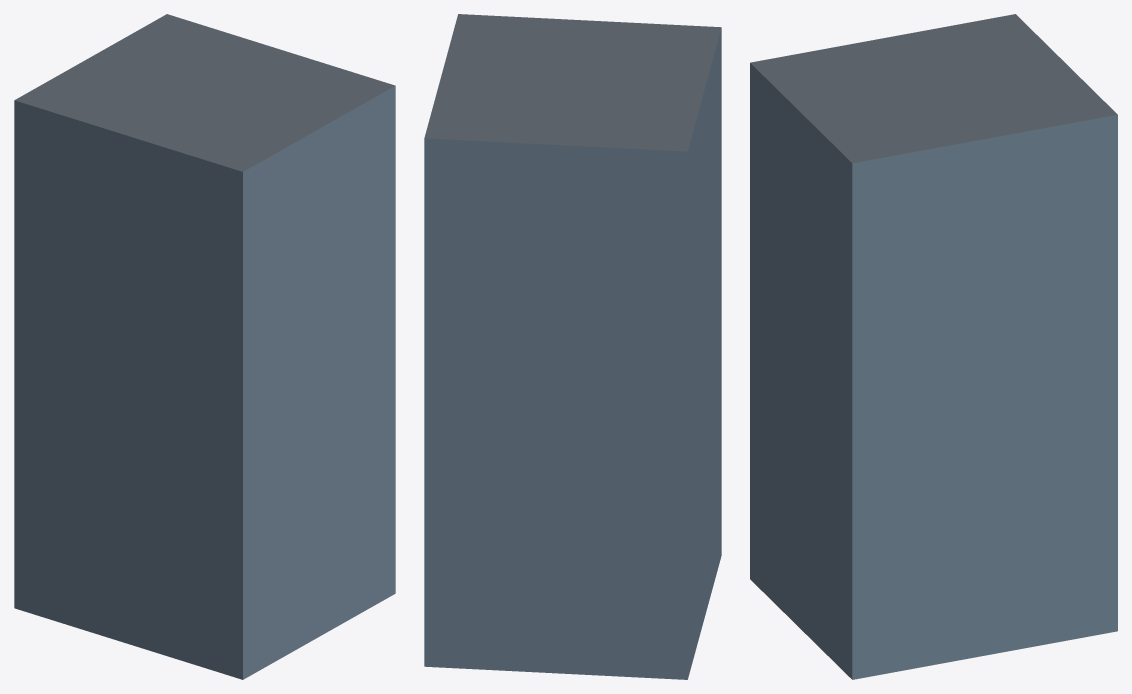
3 renders of one model, left to right at view 1: azimuth 30°, elevation 25°; view 2: azimuth 150°, elevation 25°; view 3: azimuth 270°, elevation 25°, orthographic. The views are drawn at different scales.
Parts seen in each view (by area): view 1: HP-w369237986; view 2: HP-w369237986; view 3: HP-w369237986.
Part boxes in pixels (x1=…): HP-w369237986: x1=14, y1=14, x2=395, y2=679; HP-w369237986: x1=424, y1=14, x2=721, y2=679; HP-w369237986: x1=750, y1=14, x2=1117, y2=679.
Size of the model in its own units: 61.26 by 98.8 by 63.75.
